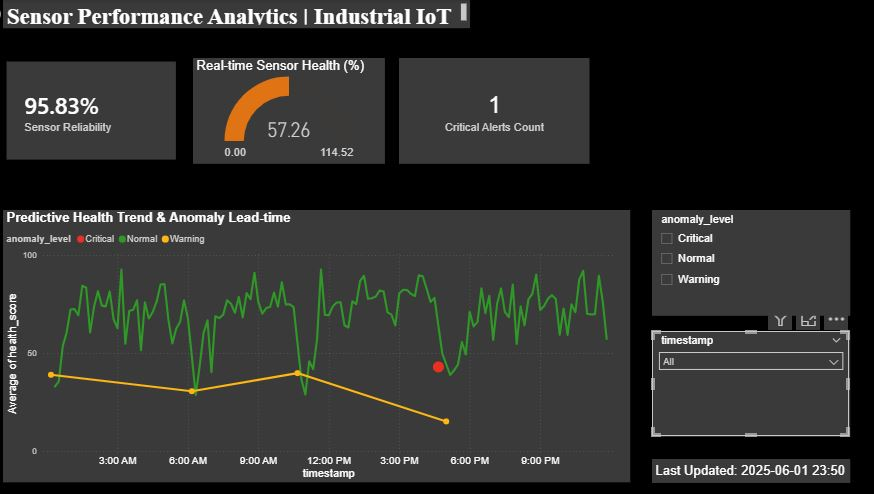

The dashboard page shown, as its layout file describes it:
{"tool":"powerbi","page":{"name":"Page 1","canvas":[1280,720],"ordinal":0},"visuals":[{"type":"textbox","box":[38.6,0,661.8,40.3],"z":0},{"type":"cardVisual","fields":{"Data":["final_sensor_analytics.Sensor Reliability"]},"box":[38.6,82.3,250.3,149.5],"z":1000},{"type":"card","fields":{"Values":["final_sensor_analytics.Critical Alerts Count"]},"box":[599.7,82.3,270.4,149.5],"z":2000},{"type":"lineChart","title":"Predictive Health Trend & Anomaly Lead-time","fields":{"Series":["final_sensor_analytics.anomaly_level"],"Y":["Avg(final_sensor_analytics.health_score)"],"Category":["final_sensor_analytics.timestamp"]},"box":[38.6,297.3,888.6,386.4],"z":3000},{"type":"gauge","title":"Real-time Sensor Health (%)","fields":{"Y":["final_sensor_analytics.Current Health"]},"box":[307.4,82.3,272.1,149.5],"z":4000},{"type":"actionButton","box":[0,0,100,40],"z":5000},{"type":"textbox","box":[957.5,650.1,280.5,33.6],"z":6000},{"type":"slicer","fields":{"Values":["final_sensor_analytics.timestamp"]},"box":[957.5,468.7,280.5,149.5],"z":7000},{"type":"slicer","fields":{"Values":["final_sensor_analytics.anomaly_level"]},"box":[957.5,297.3,280.5,149.5],"z":8000}]}

Visuals, with their boxes in screenshot pixels (x1, y1, x2, y2), scaled from the page's 1280x720 canvas onto the 874x494 screenshot:
textbox: {"left": 26, "top": 0, "right": 478, "bottom": 28}
cardVisual - final_sensor_analytics.Sensor Reliability: {"left": 26, "top": 56, "right": 197, "bottom": 159}
card - final_sensor_analytics.Critical Alerts Count: {"left": 409, "top": 56, "right": 594, "bottom": 159}
"Predictive Health Trend & Anomaly Lead-time" lineChart: {"left": 26, "top": 204, "right": 633, "bottom": 469}
"Real-time Sensor Health (%)" gauge: {"left": 210, "top": 56, "right": 396, "bottom": 159}
actionButton: {"left": 0, "top": 0, "right": 68, "bottom": 27}
textbox: {"left": 654, "top": 446, "right": 845, "bottom": 469}
slicer - final_sensor_analytics.timestamp: {"left": 654, "top": 322, "right": 845, "bottom": 424}
slicer - final_sensor_analytics.anomaly_level: {"left": 654, "top": 204, "right": 845, "bottom": 307}
